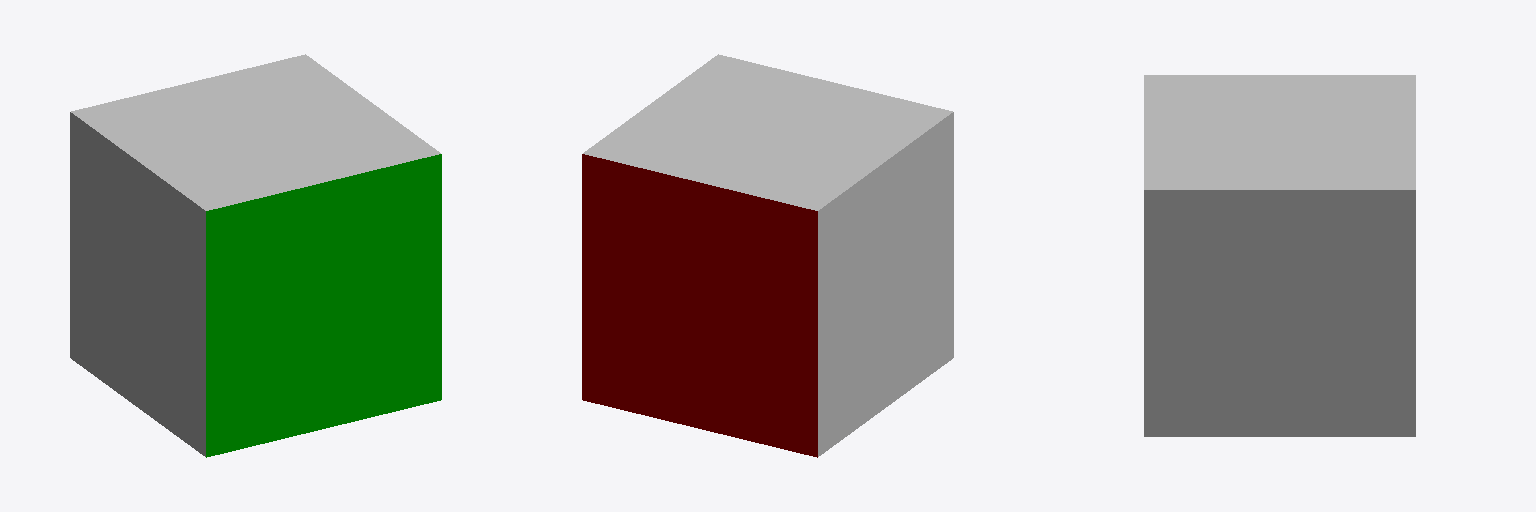
File: 'Cornellbox'-test5.obj
3 views of the same model, side by side, from view 1: azimuth 30°, elevation 25°; view 2: azimuth 150°, elevation 25°; view 3: azimuth 270°, elevation 25° (orthographic).
Parts seen in each view (by area): view 1: right_wall_Plane.003, front_wall_Plane.005, ceiling_Plane.007; view 2: left_wall_Plane.002, front_wall_Plane.005, ceiling_Plane.007; view 3: back_wall_Plane.001, ceiling_Plane.007.
Part boxes in pixels (bbox=[...]): right_wall_Plane.003: bbox=[206, 154, 441, 457]; front_wall_Plane.005: bbox=[70, 112, 205, 456]; ceiling_Plane.007: bbox=[71, 54, 440, 210]; left_wall_Plane.002: bbox=[582, 154, 817, 457]; front_wall_Plane.005: bbox=[818, 112, 953, 456]; ceiling_Plane.007: bbox=[583, 54, 952, 210]; back_wall_Plane.001: bbox=[1144, 190, 1415, 436]; ceiling_Plane.007: bbox=[1144, 75, 1415, 189].
Size of the model in its own units: 16 by 16 by 16.